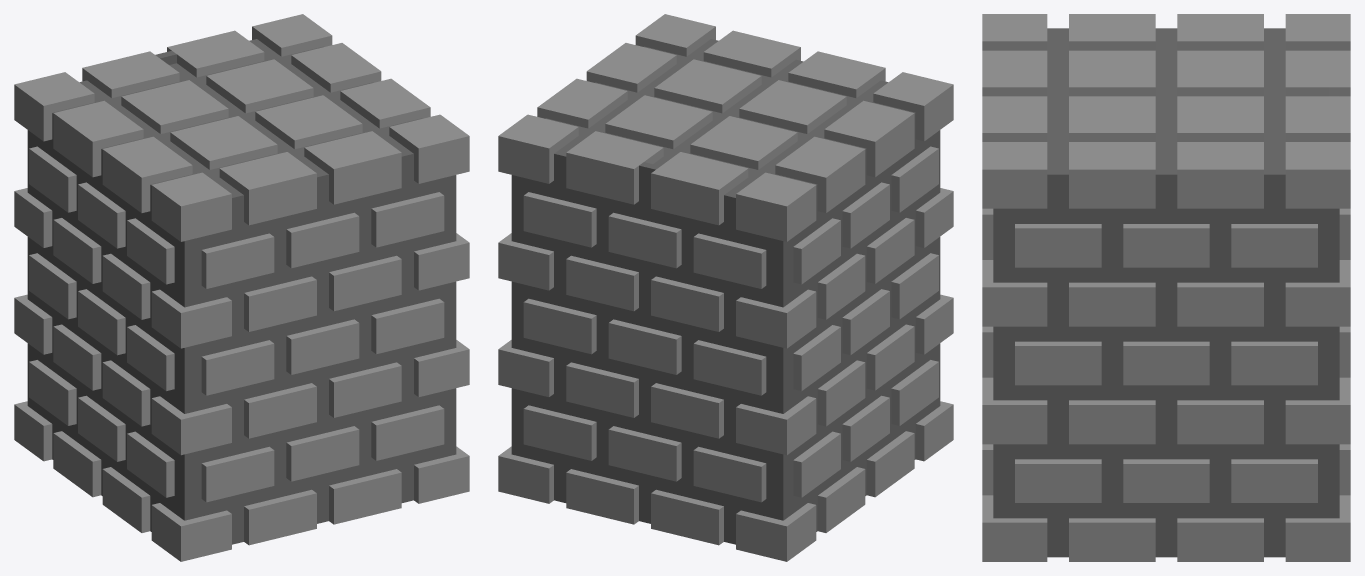
Rendered from wall.obj.
The picture shows the model from 3 angles, left to right: view 1: azimuth 30°, elevation 25°; view 2: azimuth 150°, elevation 25°; view 3: azimuth 270°, elevation 25°; orthographic projection. The views are drawn at different scales.
Bounding box in the file's own units: 3.4 × 4 × 3.4.
Materials: 1 (1 with a texture image).
